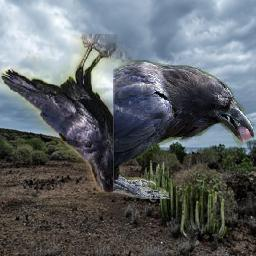Crow: (2, 35, 133, 194), (114, 61, 255, 200)
